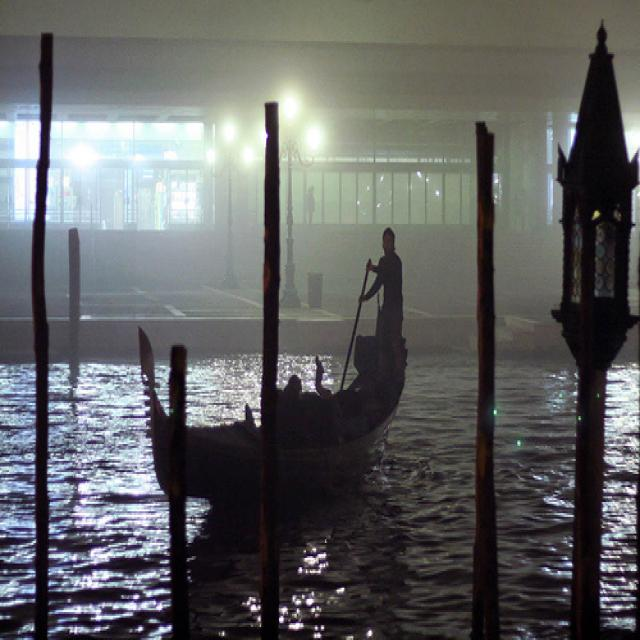Boat: (113, 239, 434, 554)
People: (361, 218, 416, 375)
